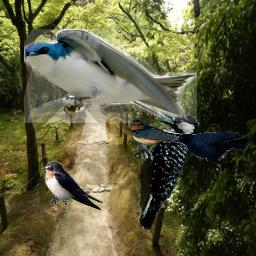Crow: (169, 131, 249, 161)
Swallow: (24, 29, 197, 123), (41, 160, 103, 212), (129, 118, 200, 146)
Woodpecker: (131, 110, 201, 229)
